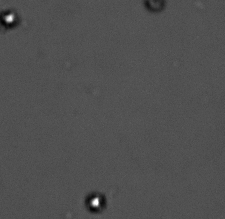Dead Cell: (144, 1, 166, 12)
Living Cell: (86, 193, 105, 212), (1, 10, 18, 29)
